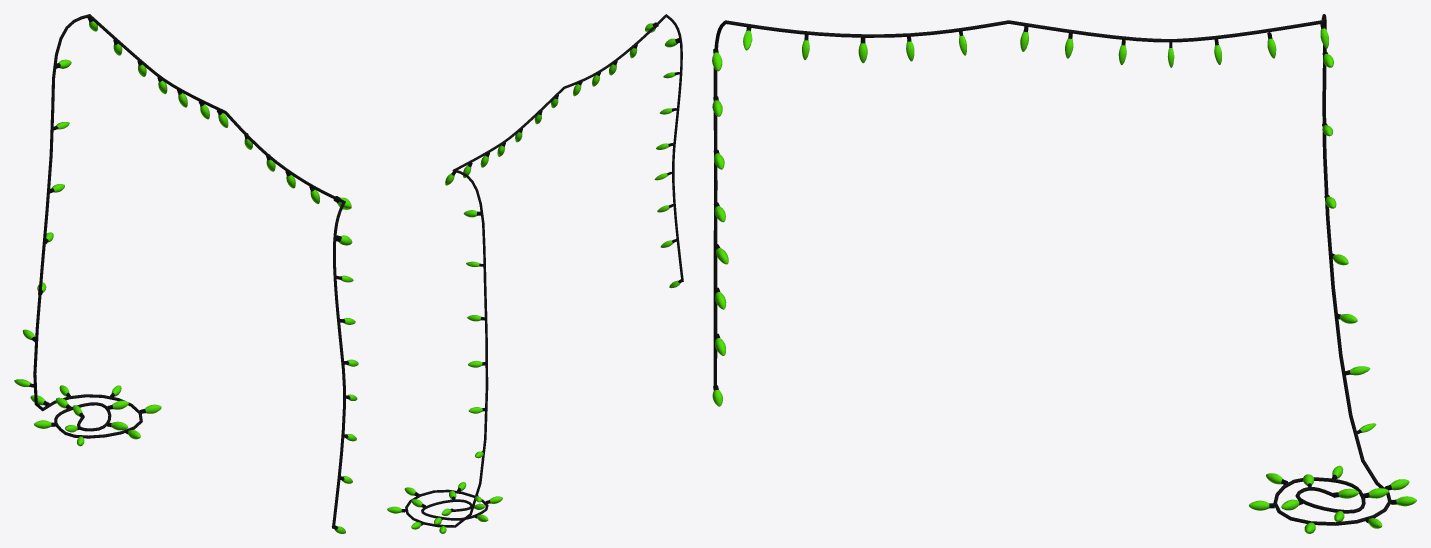
The model's file is ligths_colors.FBX.
The picture shows the model from 3 angles, left to right: view 1: azimuth 30°, elevation 25°; view 2: azimuth 150°, elevation 25°; view 3: azimuth 270°, elevation 25°; orthographic projection. The views are drawn at different scales.
Parts seen in each view (by area): view 1: Line001; view 2: Line001; view 3: Line001.
Part boxes in pixels (<box>): Line001: <box>33,14,345,528</box>; Line001: <box>405,14,683,527</box>; Line001: <box>713,14,1391,525</box>.
Size of the model in its own units: 0.3658 by 1.6 by 1.21.
